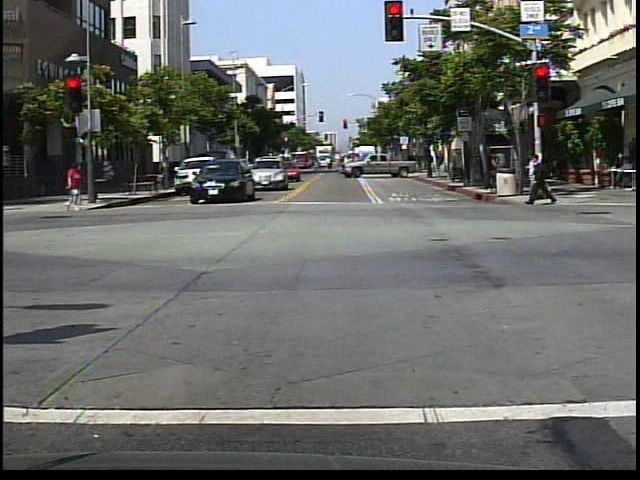person: (526, 152, 557, 210), (526, 145, 547, 200), (609, 149, 635, 193), (64, 161, 85, 214)
